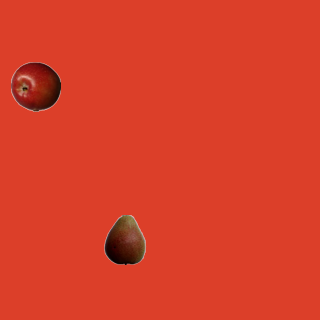Apple Braeburn: (10, 61, 60, 111)
Pear Forelle: (99, 214, 149, 264)
